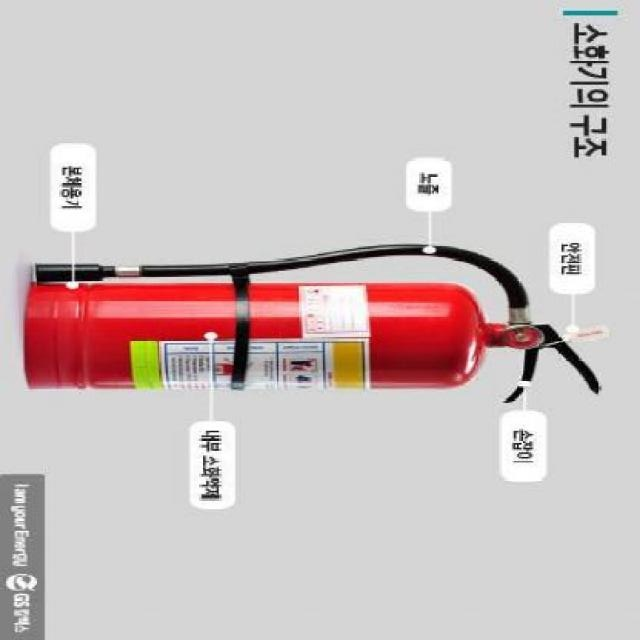fire extinguisher: (22, 242, 603, 404)
